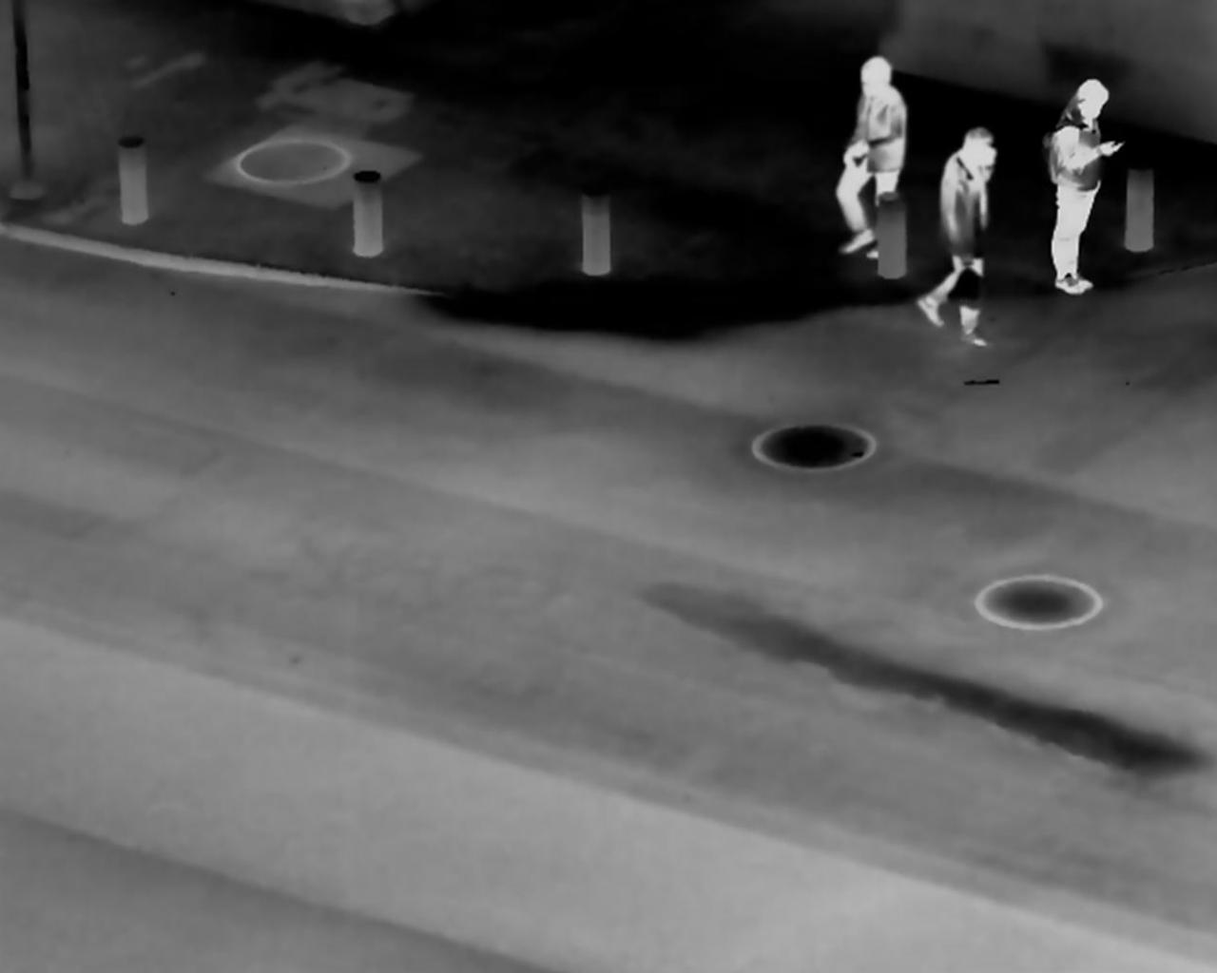person: (1039, 69, 1115, 300), (931, 116, 1001, 346), (833, 48, 908, 255)
